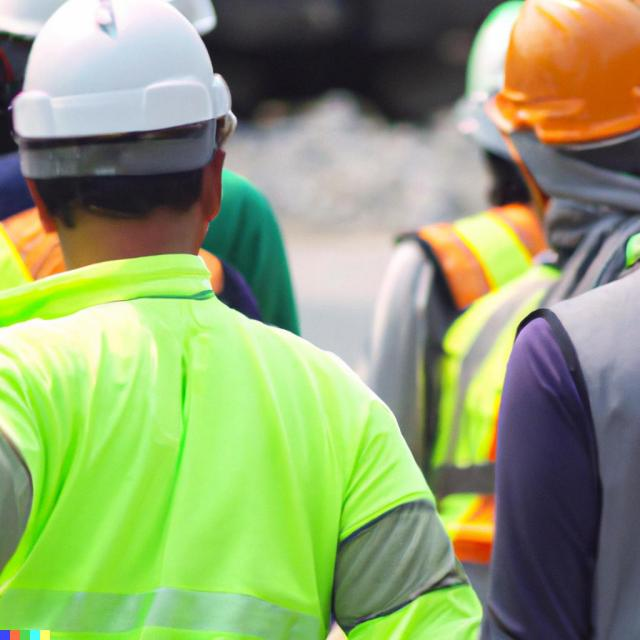Reflective-Jacket: (0, 246, 407, 640), (404, 183, 640, 625)
Safety-Helmet: (8, 2, 236, 143), (454, 2, 639, 152)
